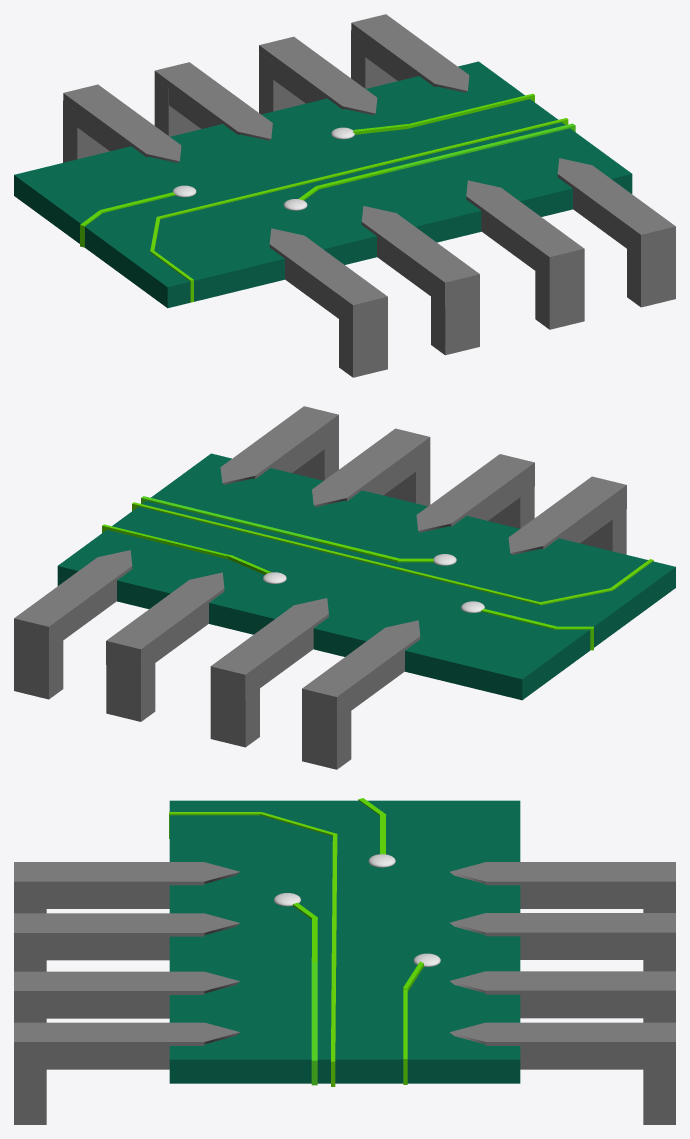
File: bug_dipti.fbx
3 renders of one model, top to bottom at view 1: azimuth 30°, elevation 25°; view 2: azimuth 150°, elevation 25°; view 3: azimuth 270°, elevation 25°, orthographic. The views are drawn at different scales.
Visible parts, largest first — view 1: bug1, pasted__pasted__pCube1; view 2: bug1, pasted__pasted__pCube1; view 3: bug1.
Part boxes in pixels (bbox=[...]): bug1: bbox=[14, 14, 675, 377]; pasted__pasted__pCube1: bbox=[63, 101, 109, 162]; bug1: bbox=[14, 406, 675, 747]; pasted__pasted__pCube1: bbox=[302, 694, 351, 769]; bug1: bbox=[14, 798, 675, 1124].
Bounding box in the file's own units: 13.59 × 2.01 × 14.39.
